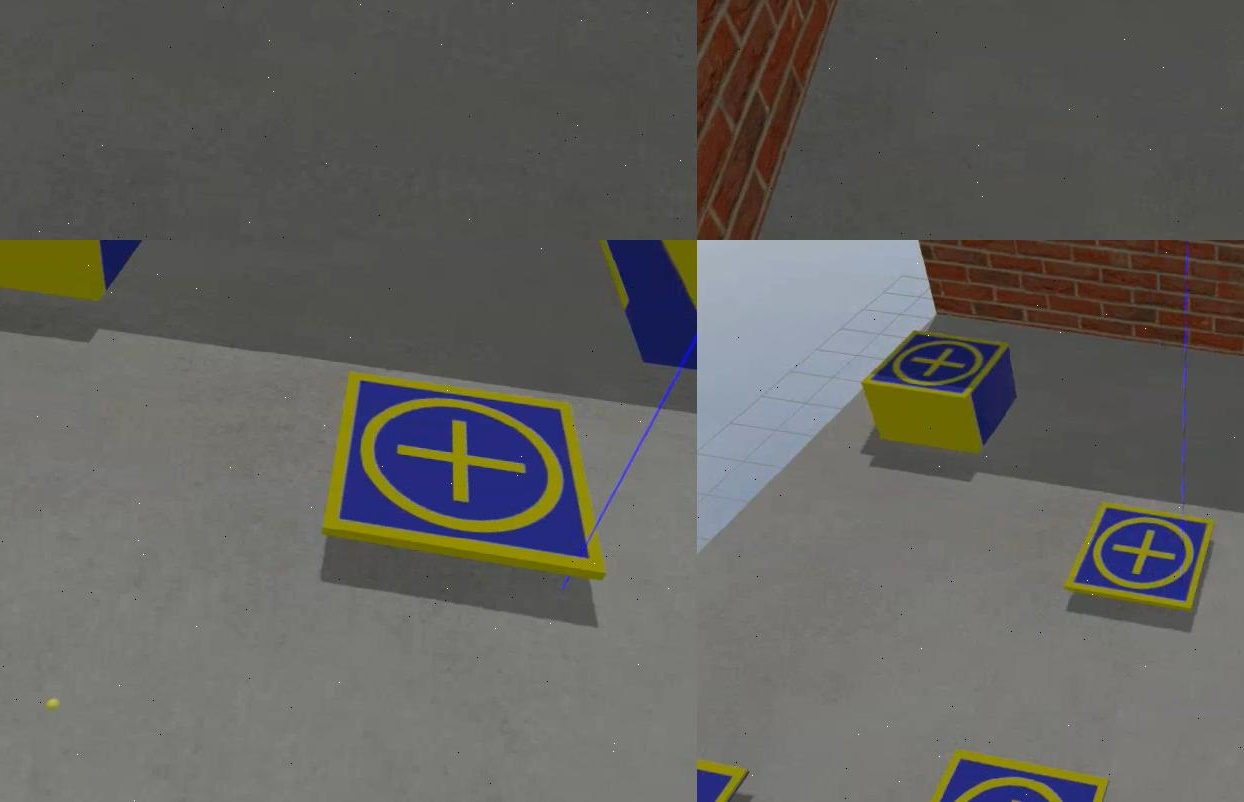large_base: (568, 241, 696, 389)
small_base: (314, 371, 620, 585), (1059, 501, 1214, 612), (882, 743, 1106, 802), (858, 328, 1007, 408)
